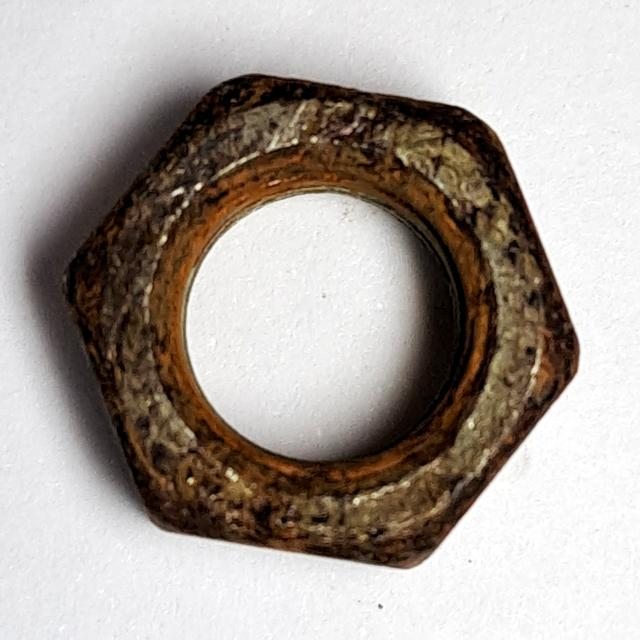Rust: (47, 61, 588, 581)
